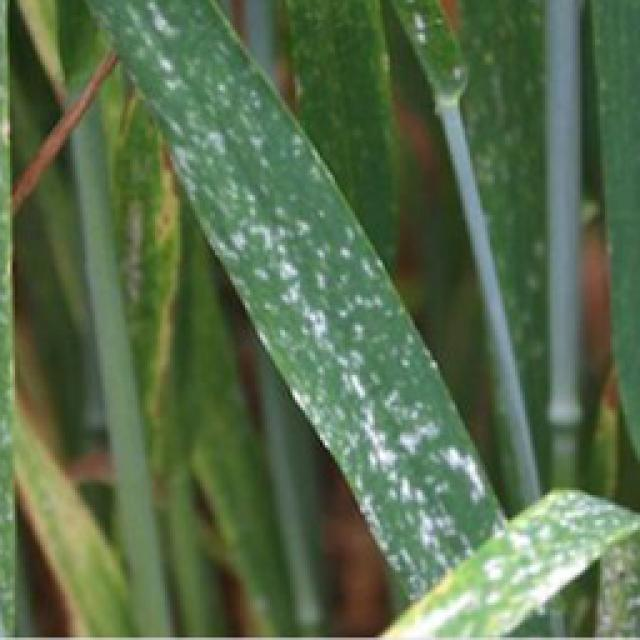Powdery Mildew: (162, 82, 640, 640)
